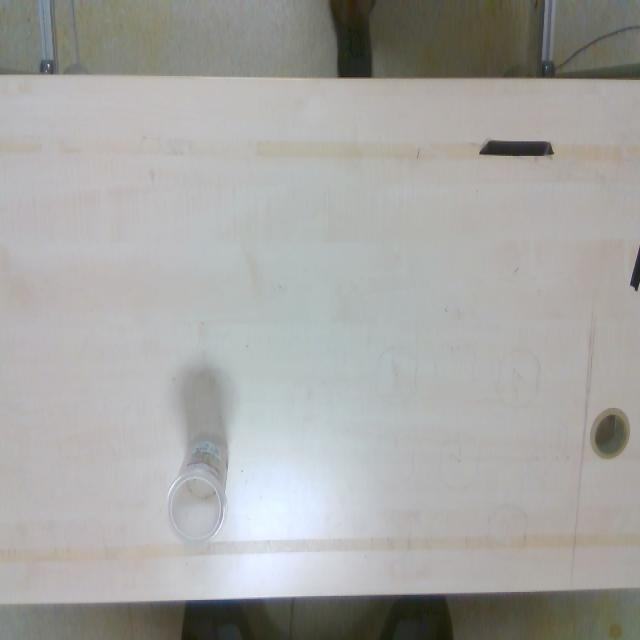cups: (166, 428, 229, 546)
